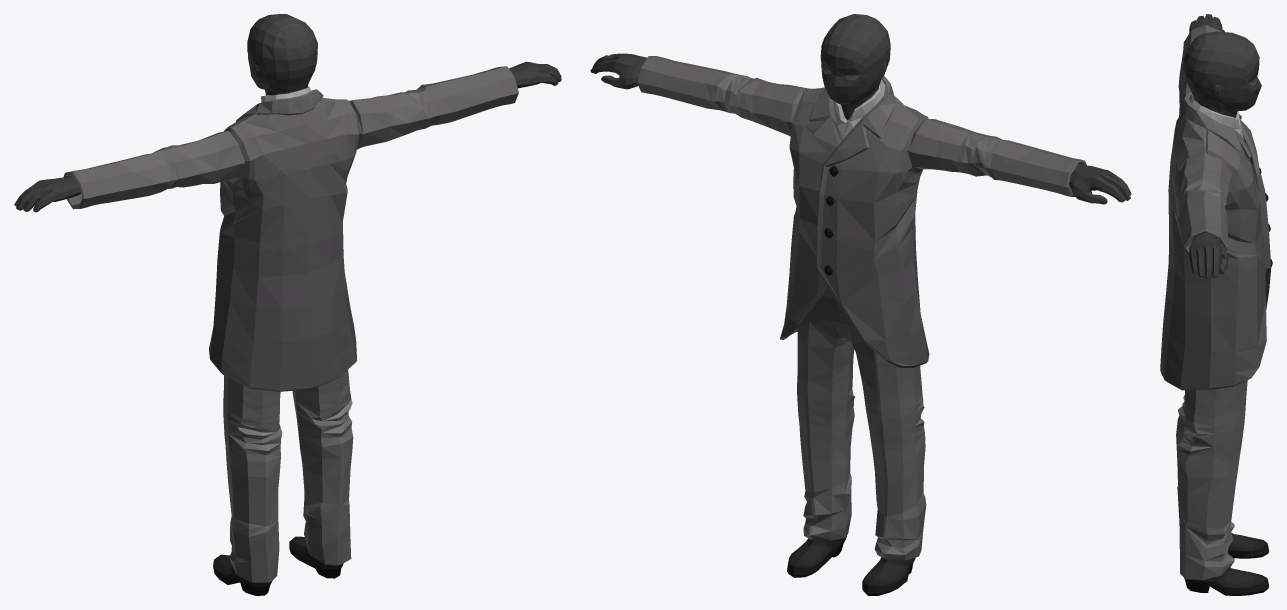
The model's file is NPC_AP31SuitBrown.glb.
The picture shows the model from 3 angles, left to right: view 1: azimuth 30°, elevation 25°; view 2: azimuth 150°, elevation 25°; view 3: azimuth 270°, elevation 25°; orthographic projection. The views are drawn at different scales.
Parts seen in each view (by area): view 1: NPC_AP31SuitBrown; view 2: NPC_AP31SuitBrown; view 3: NPC_AP31SuitBrown.
Boxes of the visible parts, <box> form: NPC_AP31SuitBrown: <box>14,14,561,595</box>; NPC_AP31SuitBrown: <box>590,14,1131,595</box>; NPC_AP31SuitBrown: <box>1160,14,1272,595</box>.
Size of the model in its own units: 13.97 by 13.64 by 2.59.
Materials: 1 (1 with a texture image).
